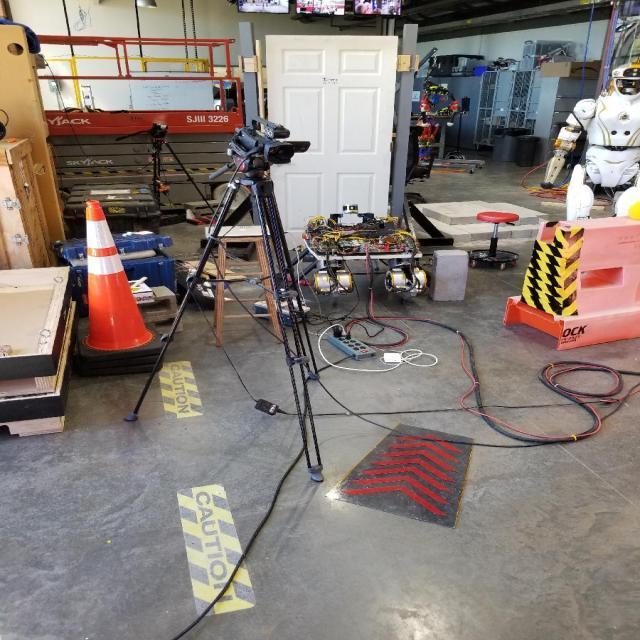door: (263, 32, 399, 251)
